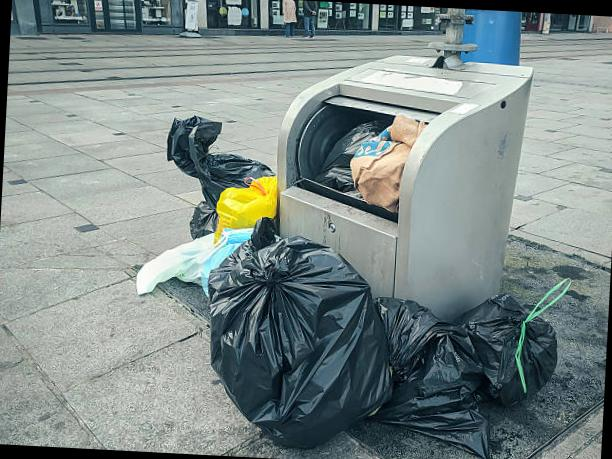trash: (216, 235, 404, 444), (348, 298, 487, 446), (442, 280, 564, 420), (348, 114, 446, 212), (176, 117, 258, 214), (230, 174, 309, 256), (310, 115, 378, 204), (206, 225, 268, 307), (137, 235, 207, 299), (179, 206, 229, 257)
trash_can_overflow: (110, 0, 580, 459)
